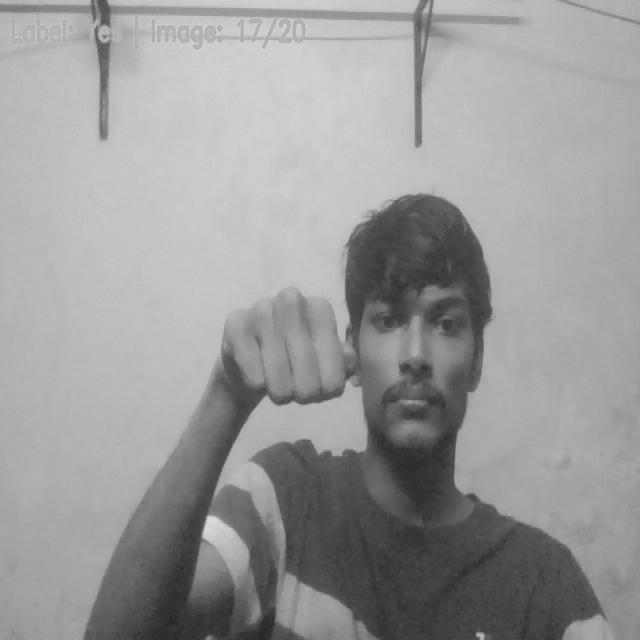Yes: (220, 286, 346, 411)
